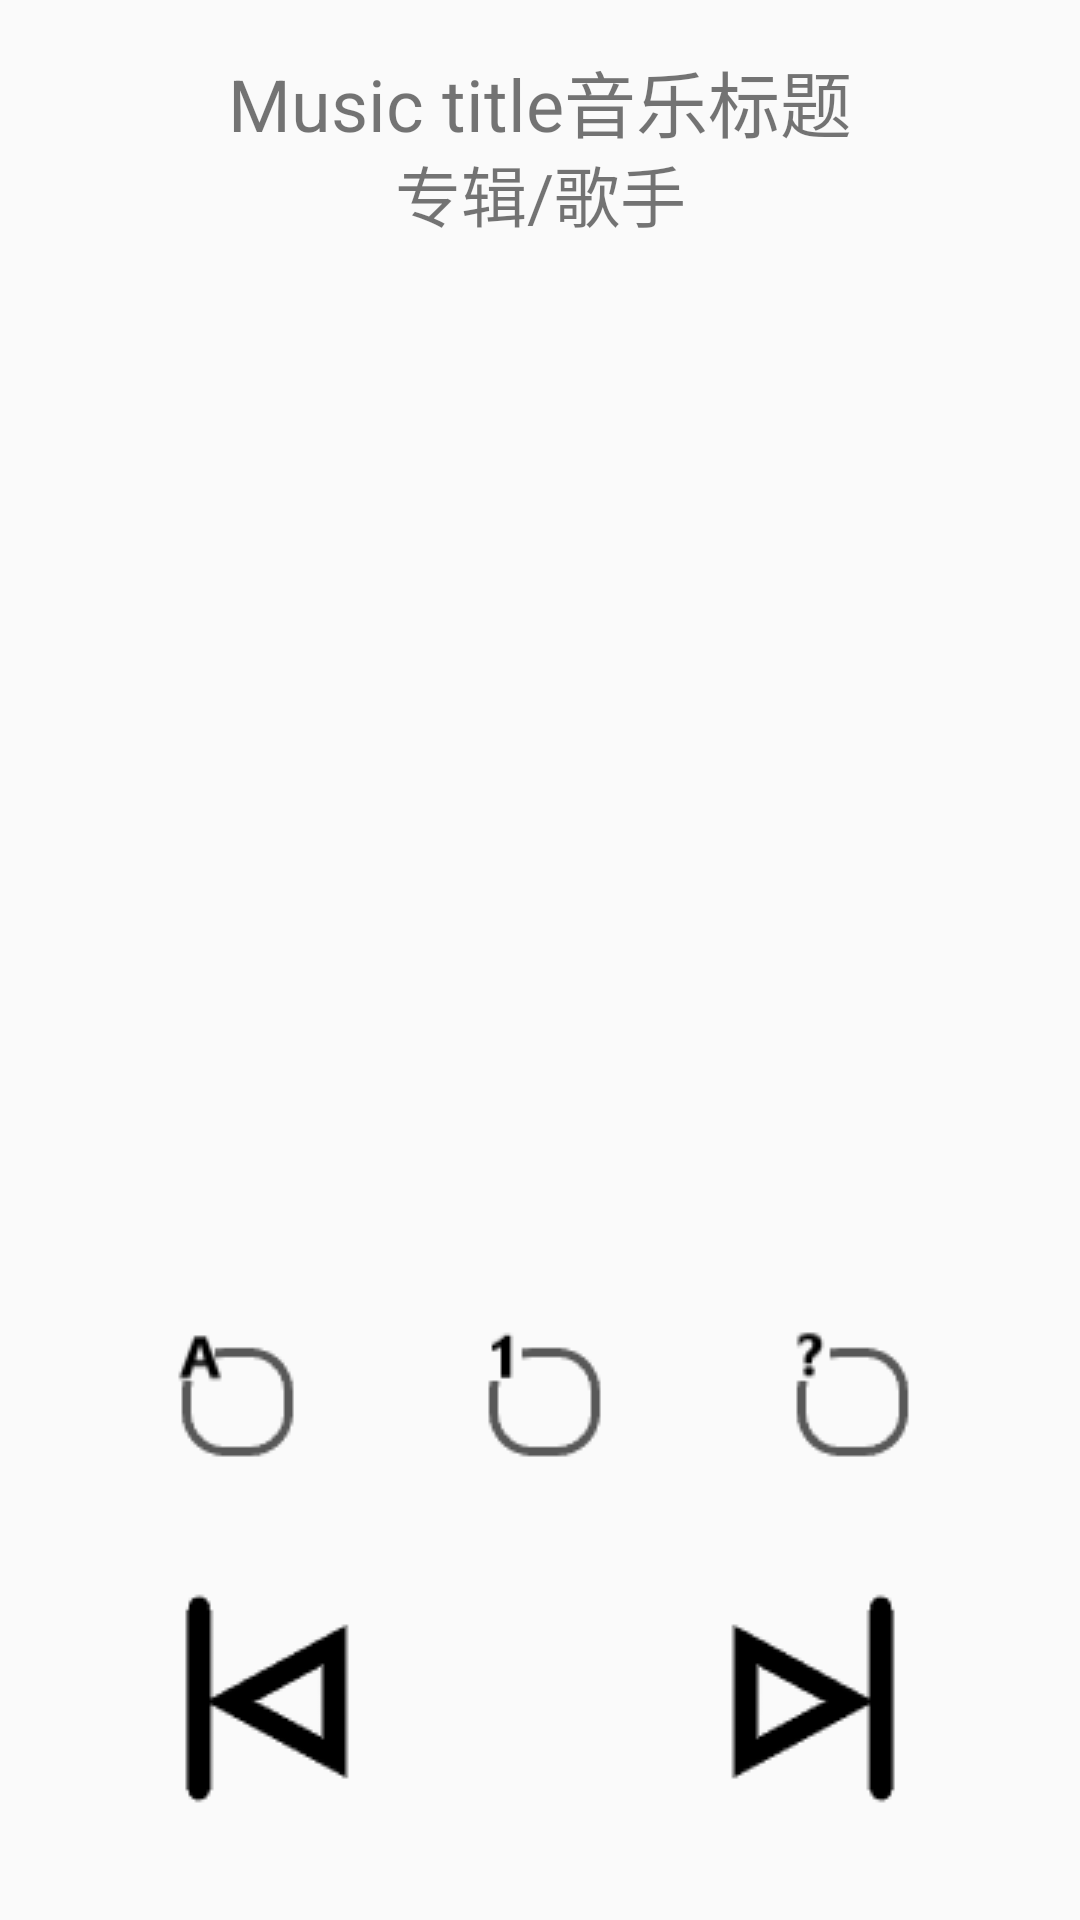

Screen size 1080x1920. Icon name, then its center in pixels as (x=x, y=y):
nowplaying play next: (x=813, y=1698)
nowplaying play previous: (x=267, y=1698)
